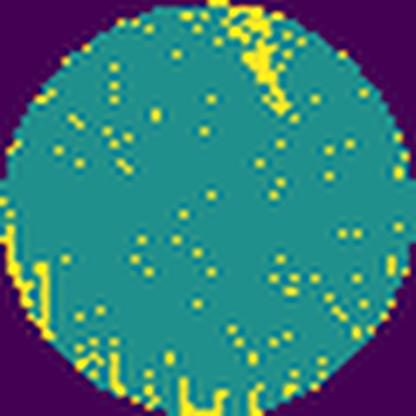Edge-Loc: (218, 6, 294, 115)
